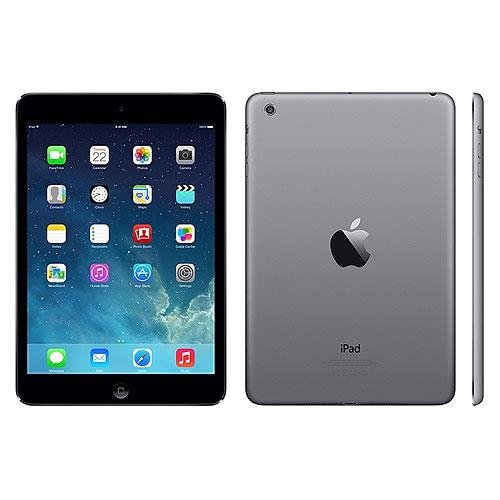Apple: (321, 211, 391, 278)
